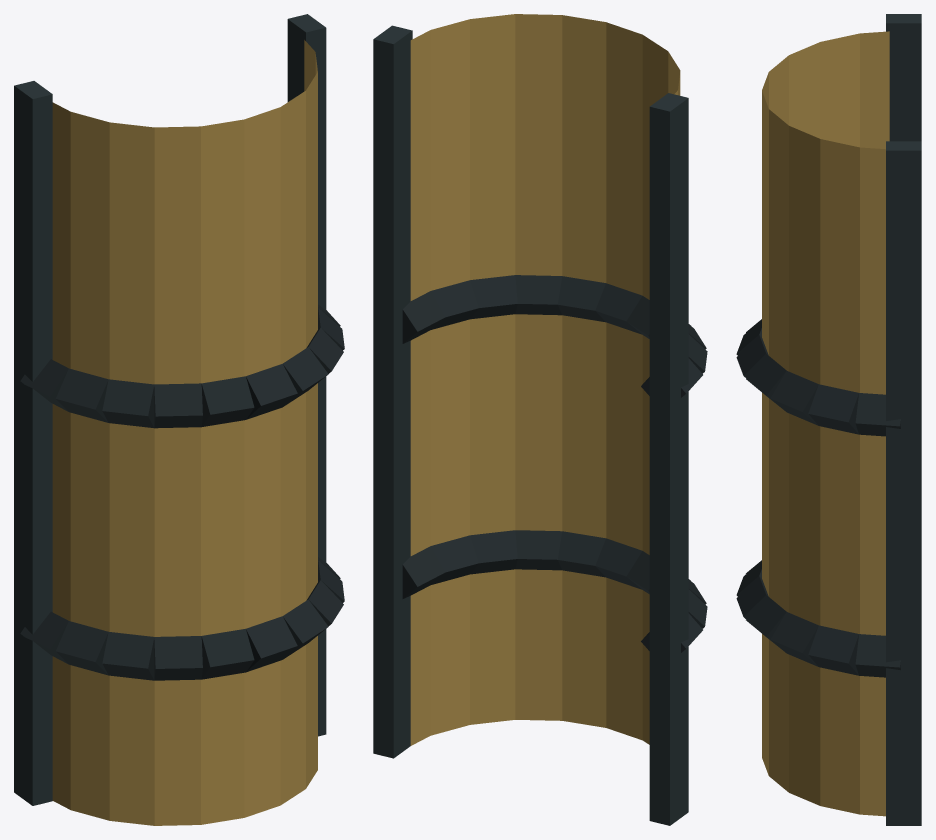
3 renders of one model, left to right at view 1: azimuth 30°, elevation 25°; view 2: azimuth 150°, elevation 25°; view 3: azimuth 270°, elevation 25°, orthographic. The views are drawn at different scales.
Parts seen in each view (by area): view 1: a77; view 2: a77; view 3: a77.
Boxes of the visible parts, x1=… form: a77: x1=14, y1=14, x2=344, y2=825; a77: x1=373, y1=14, x2=707, y2=825; a77: x1=736, y1=14, x2=921, y2=825.
Size of the model in its own units: 0.3774 by 0.84 by 0.2087.
